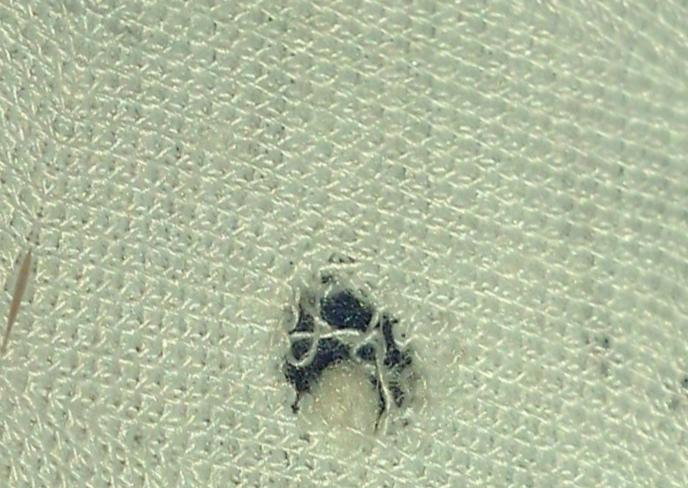hole: (276, 338, 398, 445)
